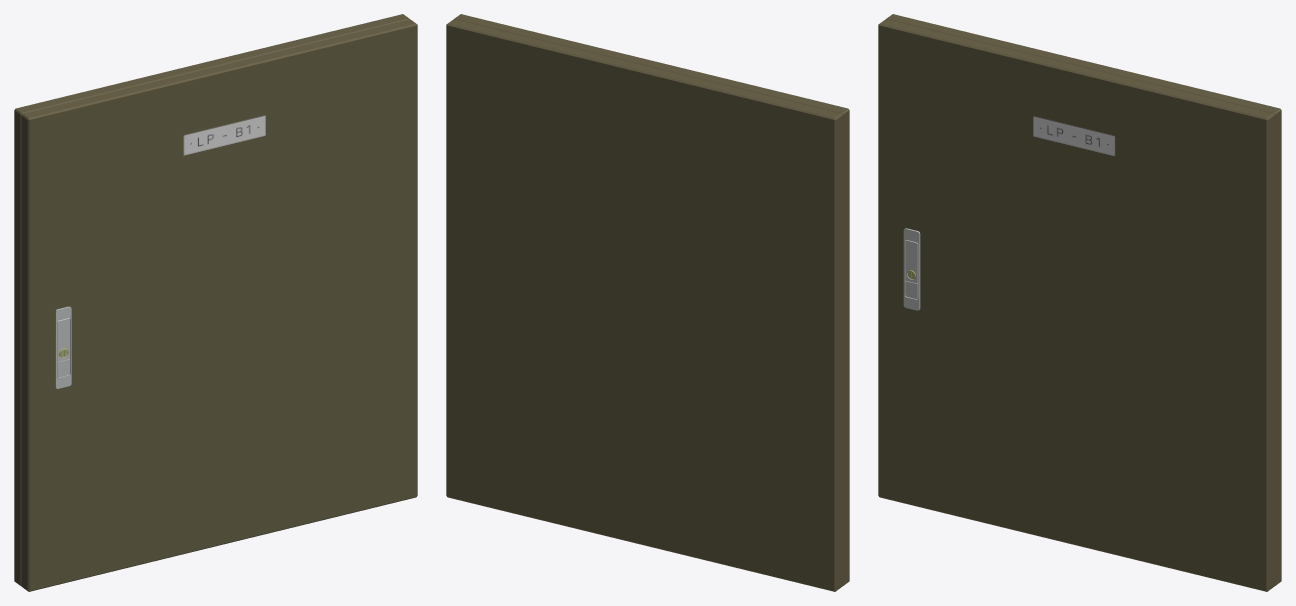
The model's file is LC_3140_switchboard_A_LOD3.fbx.
3 views of the same model, side by side, from view 1: azimuth 30°, elevation 25°; view 2: azimuth 150°, elevation 25°; view 3: azimuth 330°, elevation 25° (orthographic).
Parts seen in each view (by area): view 1: LC_3140_sb_A_LOD3; view 2: LC_3140_sb_A_LOD3; view 3: LC_3140_sb_A_LOD3.
Boxes of the visible parts, <box> form: LC_3140_sb_A_LOD3: <box>14,14,417,591</box>; LC_3140_sb_A_LOD3: <box>446,14,849,591</box>; LC_3140_sb_A_LOD3: <box>878,14,1281,591</box>.
Bounding box in the file's own units: 62 × 72 × 4.28.
1 material, 1 textured.
